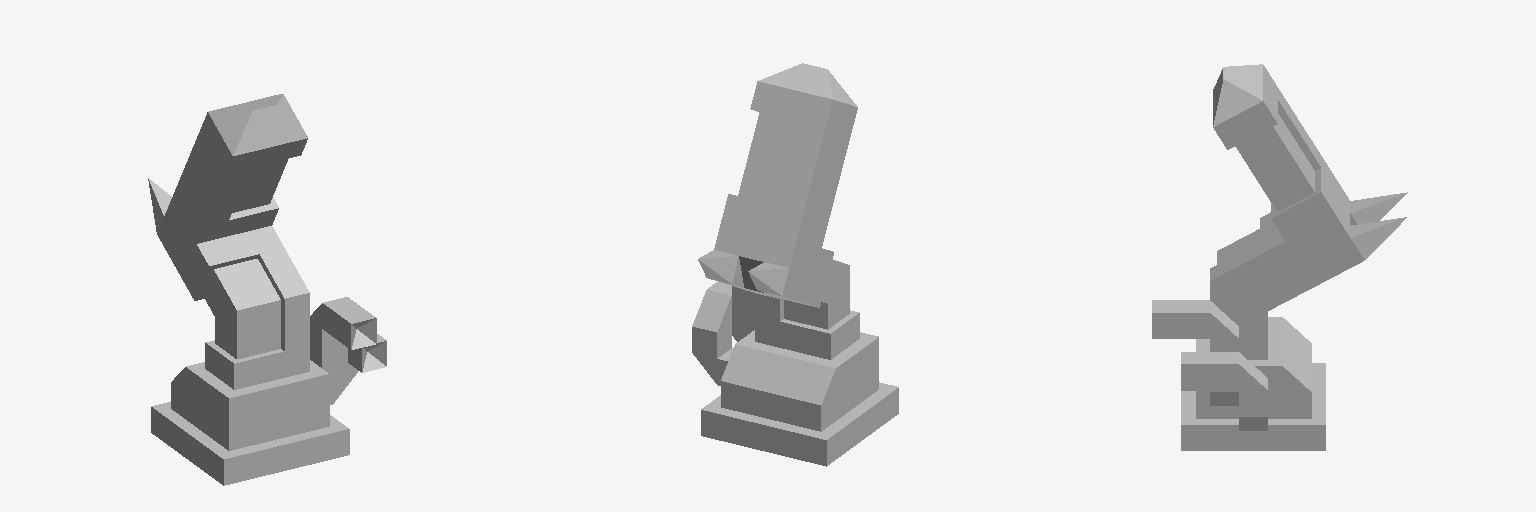
The model's file is leg_rocket_r.obj.
3 renders of one model, left to right at view 1: azimuth 30°, elevation 25°; view 2: azimuth 150°, elevation 25°; view 3: azimuth 270°, elevation 25°, orthographic.
Parts seen in each view (by area): view 1: LEG_RIGHT_ROCKET.OBSVAR_Cube.386, LEG_RIGHT_DECO_OBSIDIAN_Cube.372; view 2: LEG_RIGHT_ROCKET.OBSVAR_Cube.386, LEG_RIGHT_DECO_OBSIDIAN_Cube.372; view 3: LEG_RIGHT_ROCKET.OBSVAR_Cube.386, LEG_RIGHT_DECO_OBSIDIAN_Cube.372.
Boxes of the visible parts, box(x1,y1,x2,y2) form: LEG_RIGHT_ROCKET.OBSVAR_Cube.386: box(151, 94, 386, 485); LEG_RIGHT_DECO_OBSIDIAN_Cube.372: box(148, 178, 171, 254); LEG_RIGHT_ROCKET.OBSVAR_Cube.386: box(692, 63, 898, 466); LEG_RIGHT_DECO_OBSIDIAN_Cube.372: box(698, 250, 794, 299); LEG_RIGHT_ROCKET.OBSVAR_Cube.386: box(1152, 64, 1349, 450); LEG_RIGHT_DECO_OBSIDIAN_Cube.372: box(1340, 192, 1407, 273).
Bounding box in the file's own units: 0.4062 × 0.8246 × 0.5508.